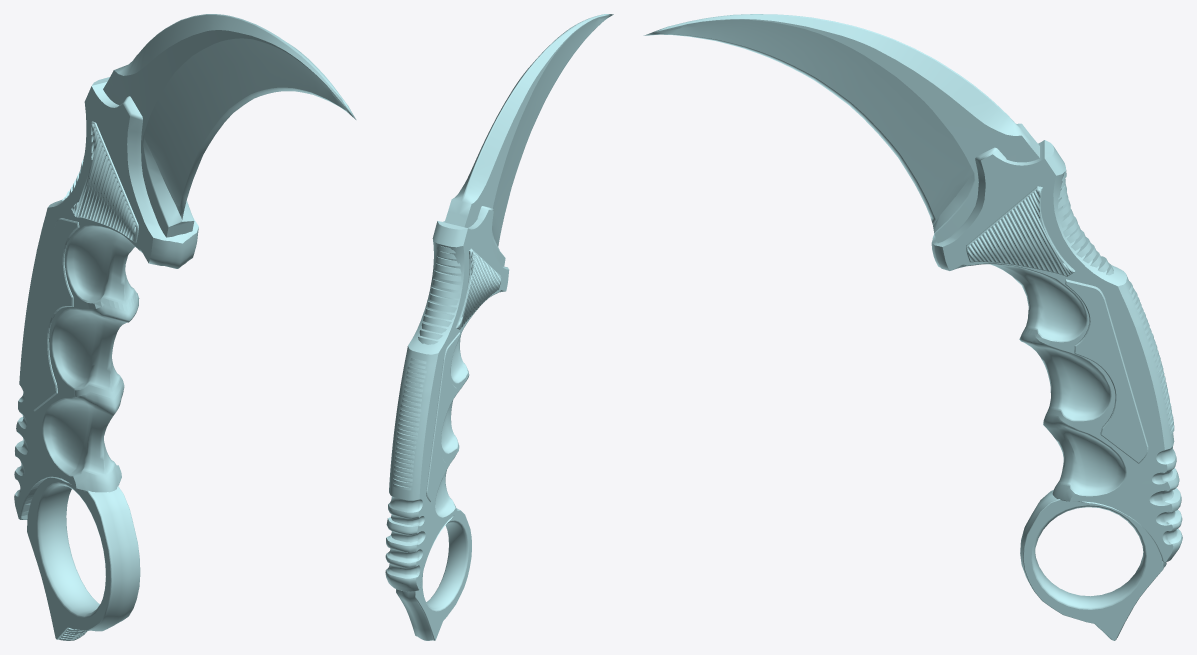
The model's file is v_knife_karam.gltf.
3 views of the same model, side by side, from view 1: azimuth 30°, elevation 25°; view 2: azimuth 150°, elevation 25°; view 3: azimuth 270°, elevation 25° (orthographic). The views are drawn at different scales.
Visible parts, largest first — view 1: v_knife_karam; view 2: v_knife_karam; view 3: v_knife_karam.
Boxes of the visible parts, bbox=[...] form: v_knife_karam: bbox=[14, 14, 356, 640]; v_knife_karam: bbox=[385, 14, 613, 640]; v_knife_karam: bbox=[643, 14, 1182, 640].
Size of the model in its own units: 0.4358 by 5.89 by 4.61.
